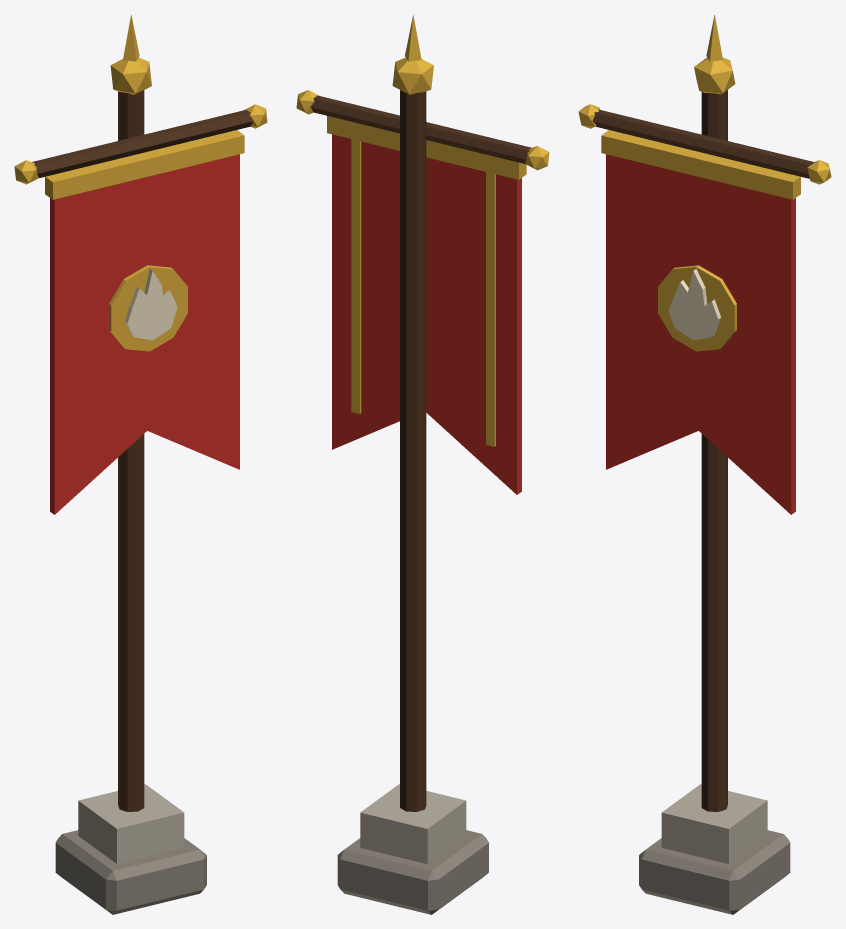
The model's file is Banner.fbx.
3 views of the same model, side by side, from view 1: azimuth 30°, elevation 25°; view 2: azimuth 150°, elevation 25°; view 3: azimuth 330°, elevation 25° (orthographic).
Parts seen in each view (by area): view 1: Banner; view 2: Banner; view 3: Banner.
Part boxes in pixels (bbox=[...]): Banner: bbox=[14, 15, 267, 914]; Banner: bbox=[296, 15, 549, 914]; Banner: bbox=[578, 15, 831, 914].
Bounding box in the file's own units: 1.49 × 4.95 × 0.6.
